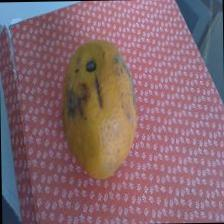Orange Rotten: (52, 29, 146, 185)
